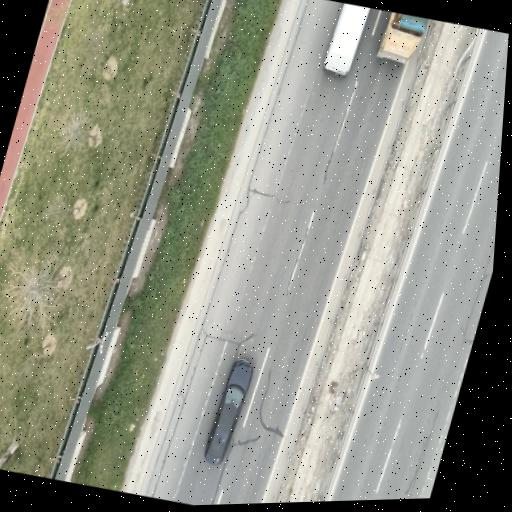car: (204, 358, 252, 464)
truck: (323, 3, 368, 76), (377, 12, 427, 63)
